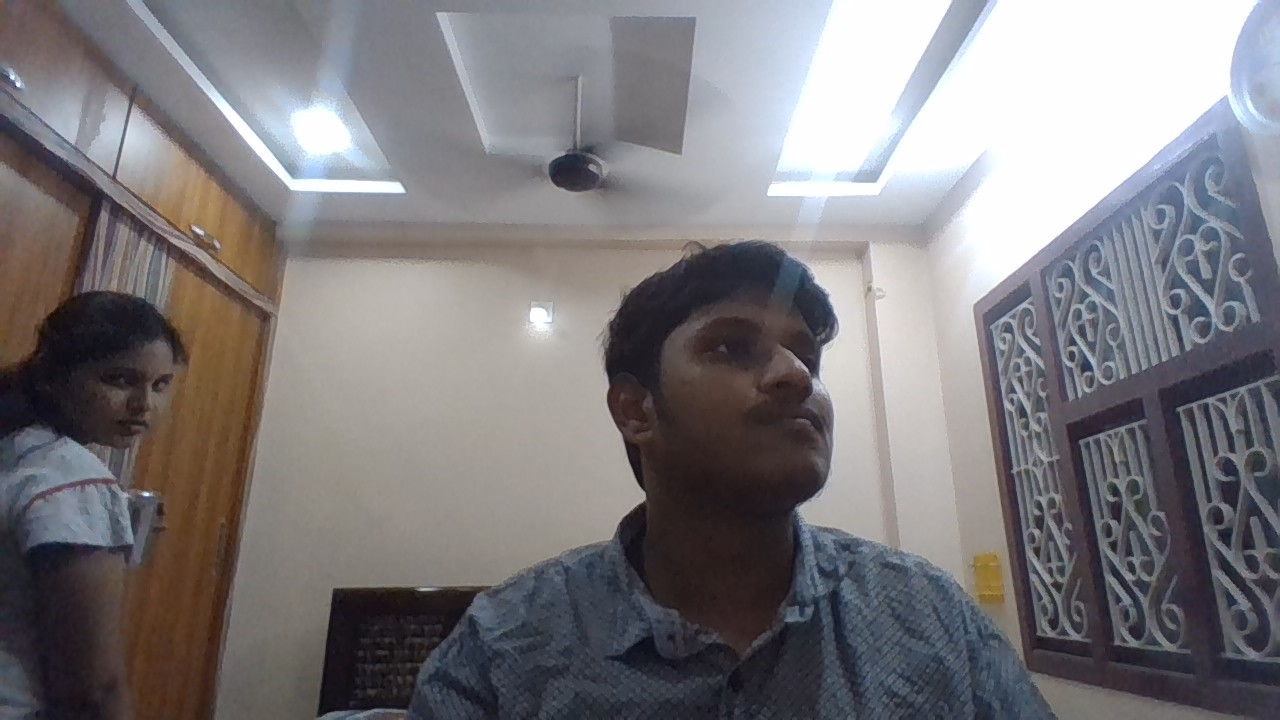person: (404, 182, 1058, 720), (11, 244, 211, 720)
